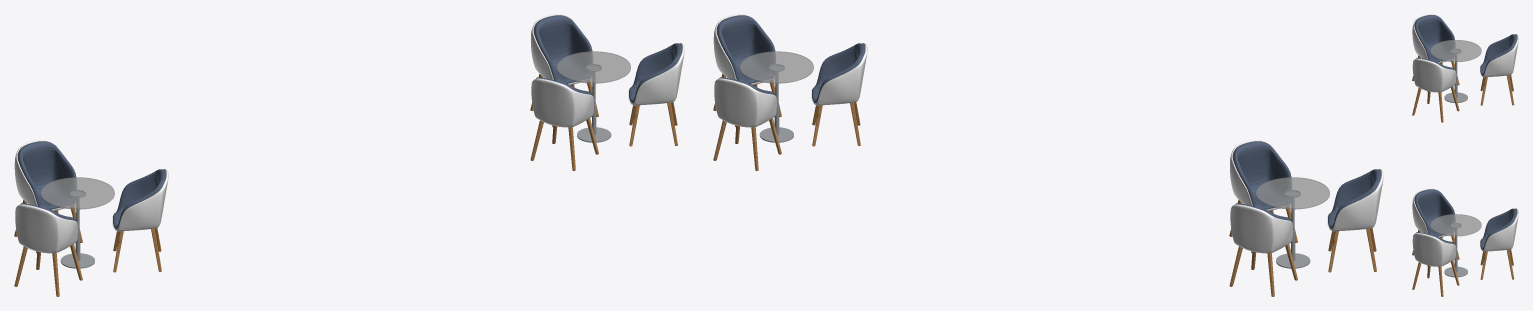
File: StandCentro2.obj
The picture shows the model from 3 angles, left to right: view 1: azimuth 30°, elevation 25°; view 2: azimuth 150°, elevation 25°; view 3: azimuth 270°, elevation 25°; orthographic projection. The views are drawn at different scales.
Visible parts, largest first — view 1: arm_chair_005, arm_chair_02, arm_chair_03, arm_chair_006, arm_chair_01, arm_chair_004, top_table001, top_table, table_leg_01, table_leg_002; view 2: arm_chair_01, arm_chair_004, arm_chair_005, arm_chair_02, arm_chair_006, arm_chair_03, top_table001, top_table, table_leg_002, table_leg_01; view 3: arm_chair_006, arm_chair_03, arm_chair_004, arm_chair_01, arm_chair_005, arm_chair_02, top_table001, top_table, table_leg_002, table_leg_01.
Boxes of the visible parts, <box> form: arm_chair_005: <box>530,14,598,127</box>; arm_chair_02: <box>14,140,82,252</box>; arm_chair_03: <box>14,203,82,296</box>; arm_chair_006: <box>530,77,598,170</box>; arm_chair_01: <box>112,169,168,272</box>; arm_chair_004: <box>628,43,684,146</box>; top_table001: <box>557,51,630,83</box>; top_table: <box>41,177,114,209</box>; table_leg_01: <box>60,190,94,268</box>; table_leg_002: <box>577,64,611,142</box>; arm_chair_01: <box>1229,140,1297,252</box>; arm_chair_004: <box>713,14,781,126</box>; arm_chair_005: <box>713,77,781,170</box>; arm_chair_02: <box>1229,203,1297,296</box>; arm_chair_006: <box>811,43,867,146</box>; arm_chair_03: <box>1327,169,1383,272</box>; top_table001: <box>740,51,813,83</box>; top_table: <box>1256,177,1329,209</box>; table_leg_002: <box>759,64,793,142</box>; table_leg_01: <box>1276,190,1310,268</box>; arm_chair_006: <box>1412,188,1459,266</box>; arm_chair_03: <box>1412,14,1459,92</box>; arm_chair_004: <box>1412,232,1459,296</box>; arm_chair_01: <box>1412,57,1459,122</box>; arm_chair_005: <box>1480,208,1518,279</box>; arm_chair_02: <box>1479,34,1518,105</box>; top_table001: <box>1430,214,1481,236</box>; top_table: <box>1430,40,1481,62</box>; table_leg_002: <box>1444,223,1467,277</box>; table_leg_01: <box>1444,48,1467,102</box>.
Size of the model in its own units: 669 by 84.46 by 135.
5 materials, 1 textured.
